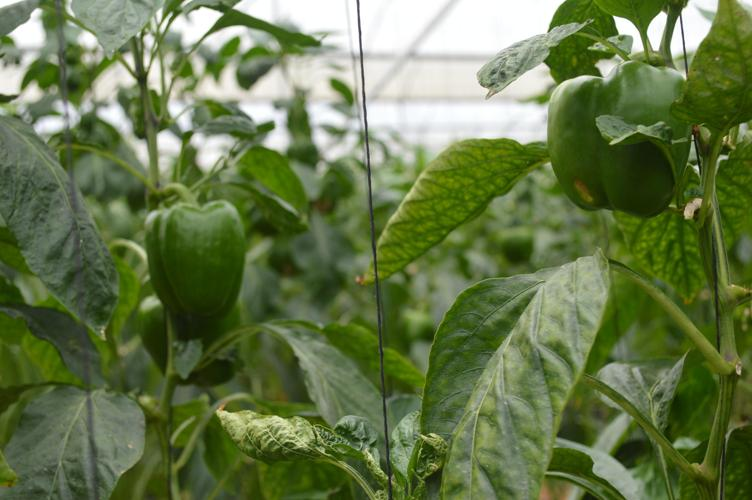BellPepper: (543, 75, 674, 215), (148, 203, 245, 313), (141, 301, 247, 385)
